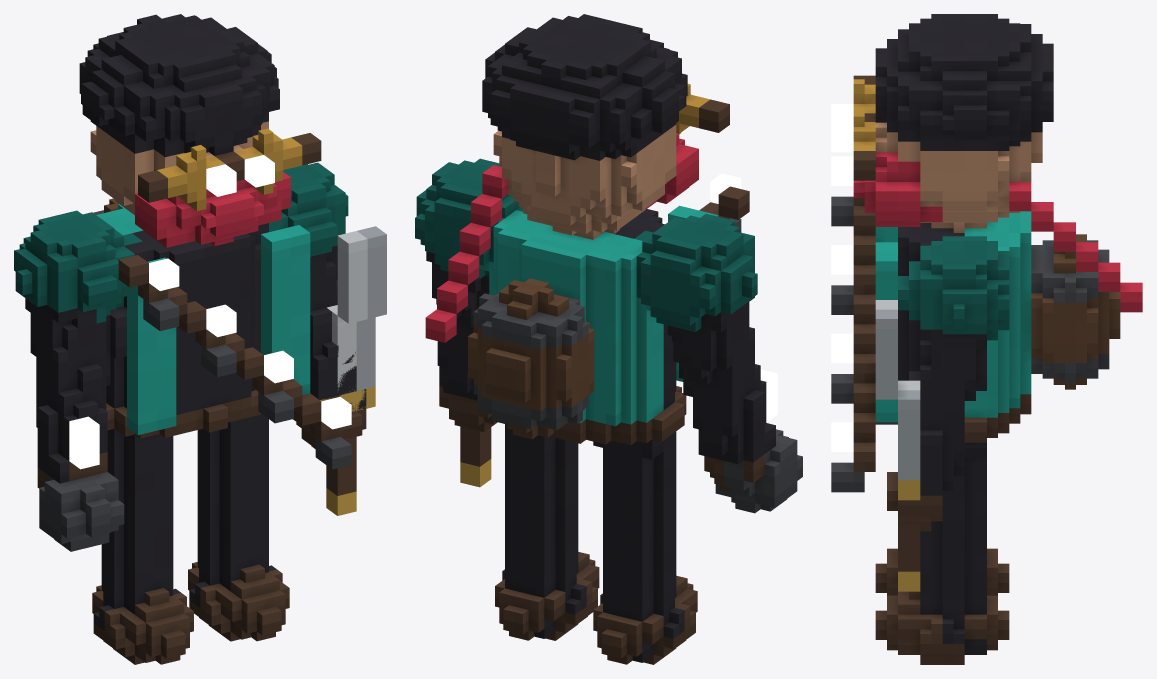
Rendered from u_lame__artificier.glb.
3 renders of one model, left to right at view 1: azimuth 30°, elevation 25°; view 2: azimuth 150°, elevation 25°; view 3: azimuth 270°, elevation 25°, orthographic. The views are drawn at different scales.
Parts seen in each view (by area): view 1: lame_body, lame_weapon, lame_glow; view 2: lame_body, lame_weapon, lame_glow; view 3: lame_body, lame_weapon, lame_glow.
Part boxes in pixels (bbox=[...]): lame_body: bbox=[14, 14, 366, 664]; lame_weapon: bbox=[320, 226, 386, 515]; lame_glow: bbox=[69, 155, 351, 469]; lame_body: bbox=[415, 14, 802, 664]; lame_weapon: bbox=[460, 426, 491, 487]; lame_glow: bbox=[662, 173, 777, 422]; lame_body: bbox=[831, 14, 1142, 664]; lame_weapon: bbox=[875, 300, 920, 591]; lame_glow: bbox=[831, 104, 853, 451].
Bounding box in the file's own units: 0.85 × 1.47 × 0.7.
